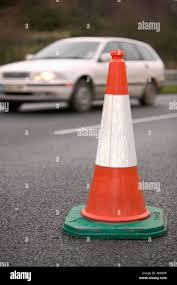car: (1, 35, 167, 106)
cone: (64, 49, 165, 239)
